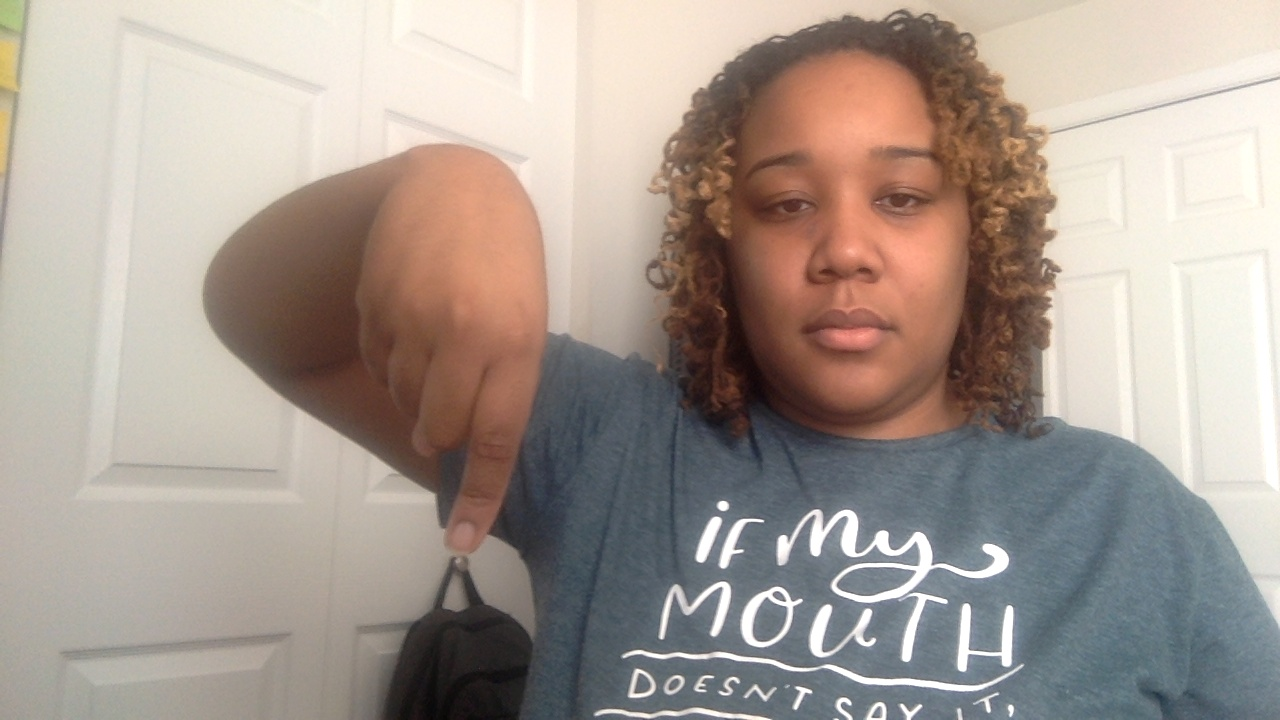down: (355, 143, 553, 561)
